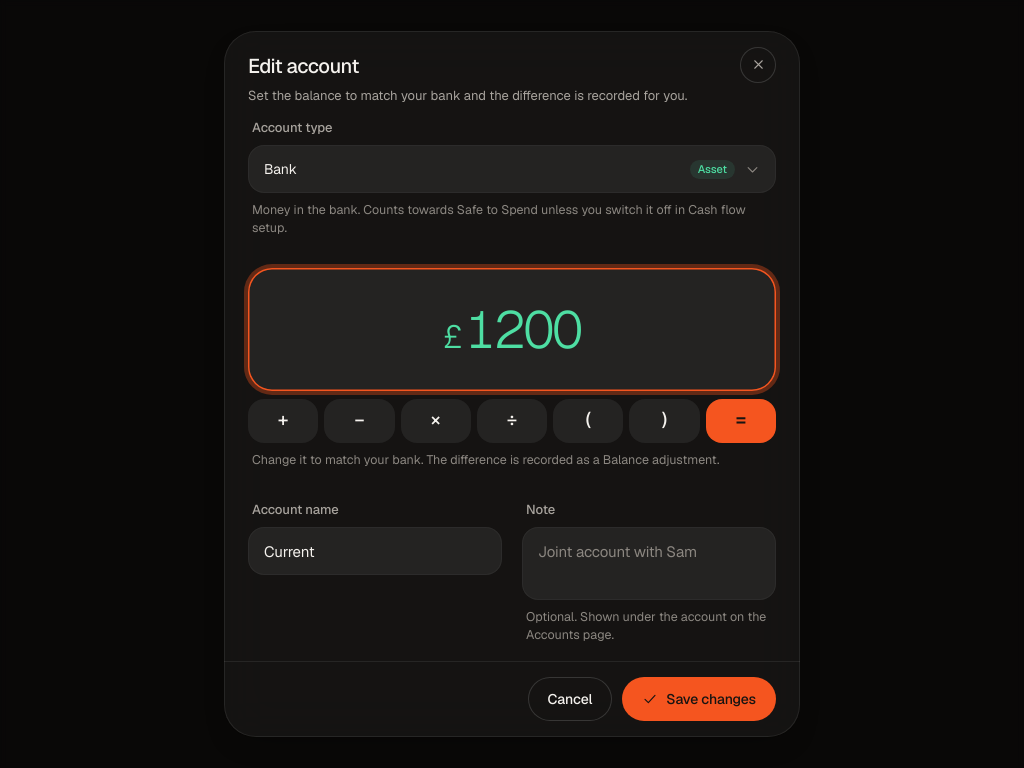
Scenario: a balance worked out as a sum › saves nothing while the sum is half-typed
Clear the field named "Balance today" at [523, 329], box [466,296,581,363]
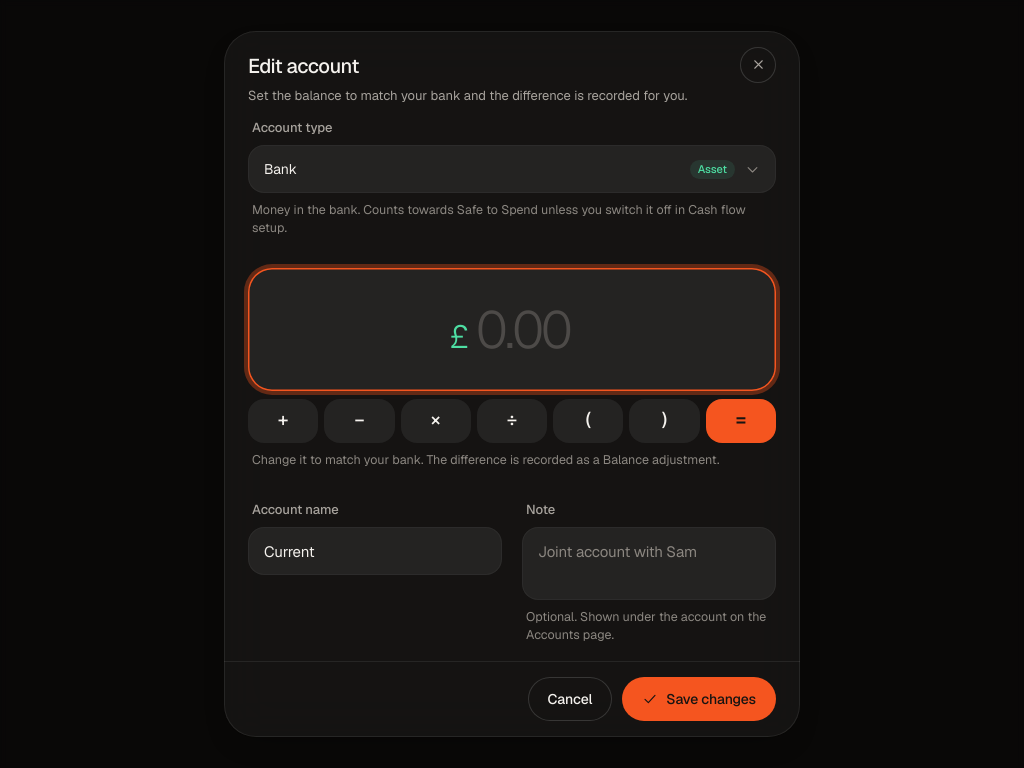
Type "1200-" into the field labelled "0.00".
click(523, 329); type("1200-")  # box [472,296,574,363]
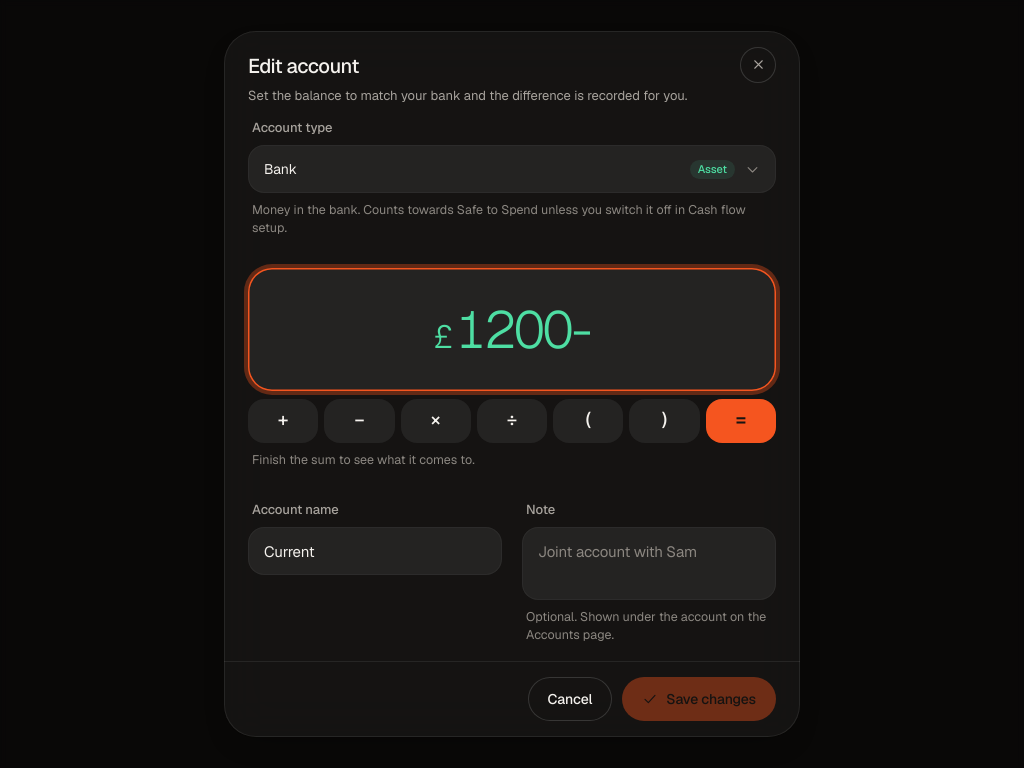
Check: the text "Finish the sum to see what it comes to." is shown, box [252,451,475,468]
Check: the button "Save changes" is disabled, box [622,677,776,721]
